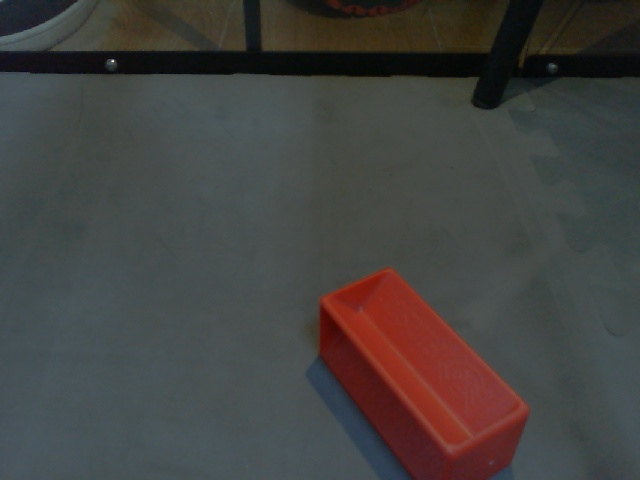RedSample: (316, 266, 531, 480)
